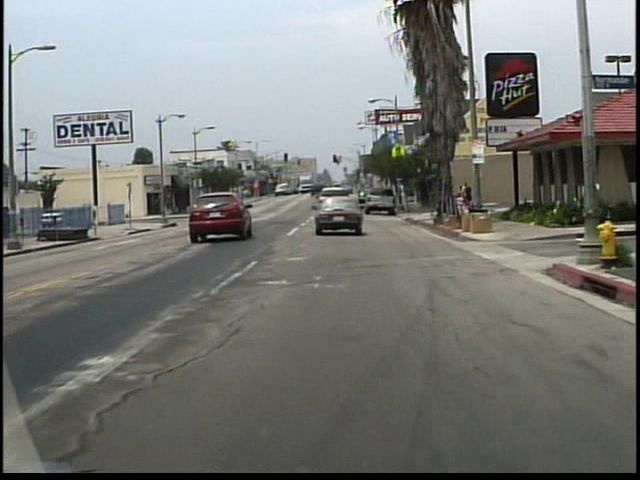person: (465, 182, 474, 211), (459, 184, 467, 208)
